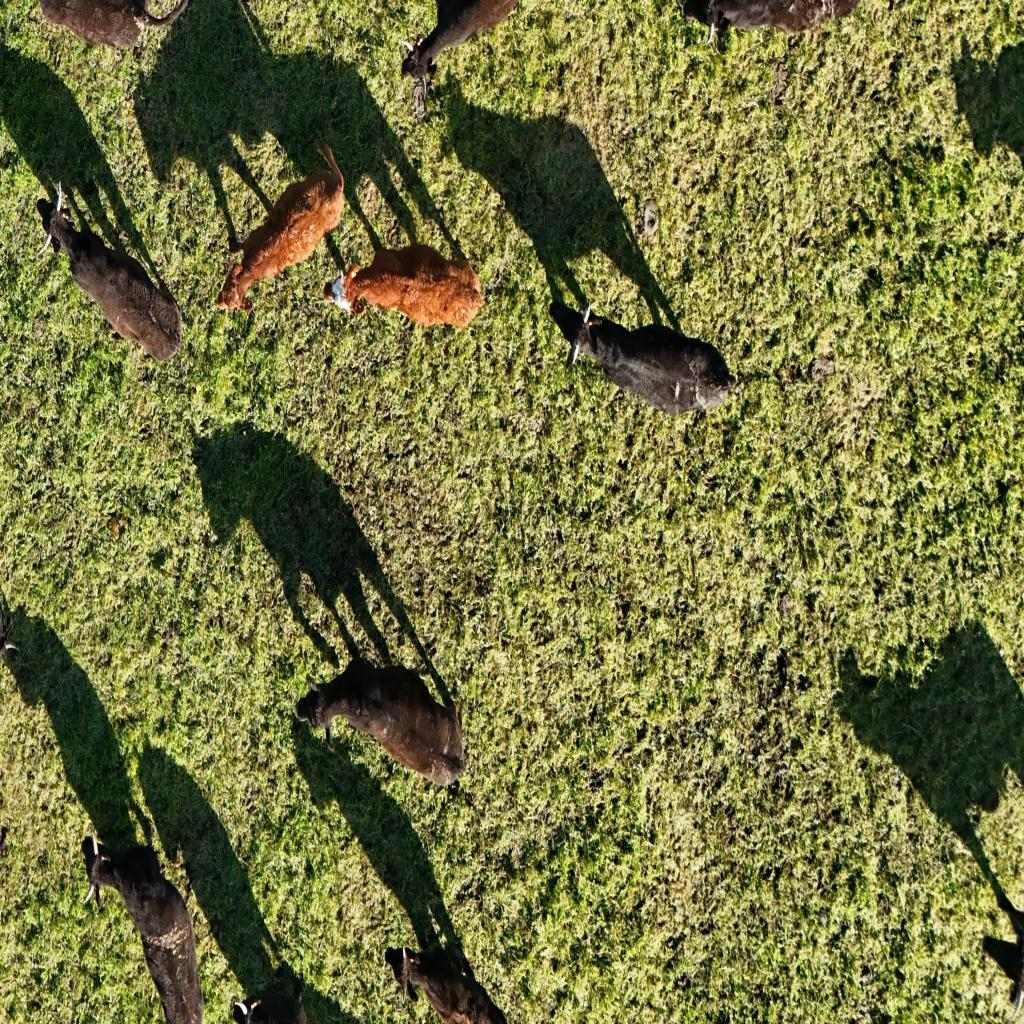cow: (35, 185, 188, 370), (548, 290, 739, 426), (211, 132, 347, 320), (81, 832, 207, 1024), (302, 656, 469, 784), (397, 0, 544, 118), (376, 900, 514, 1024), (323, 240, 487, 336), (34, 1, 194, 53)
